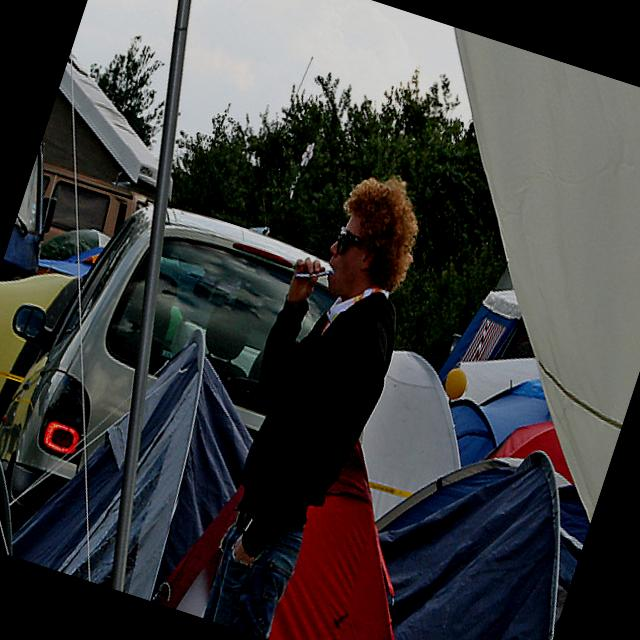Vehicle: (0, 166, 346, 603), (0, 130, 121, 454)
